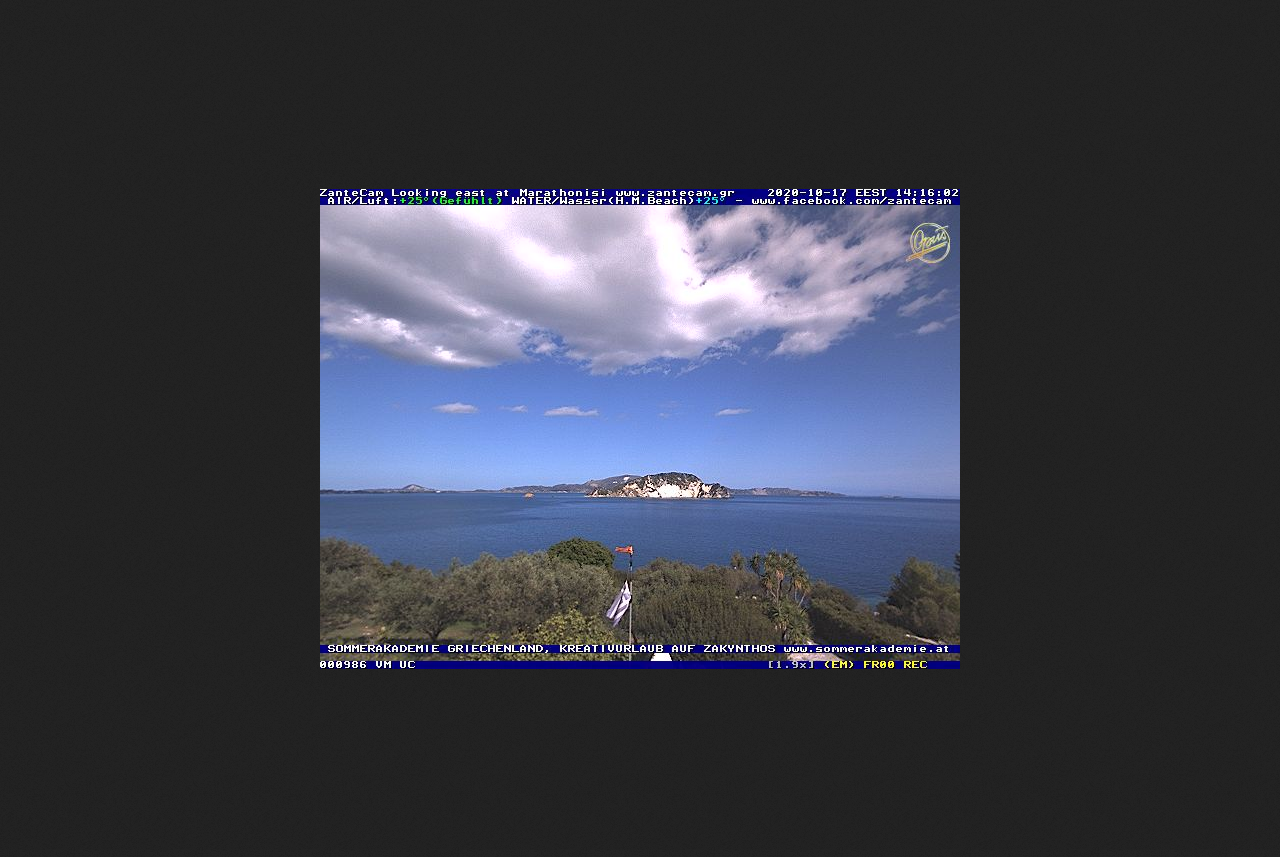no: (604, 545, 638, 629)
